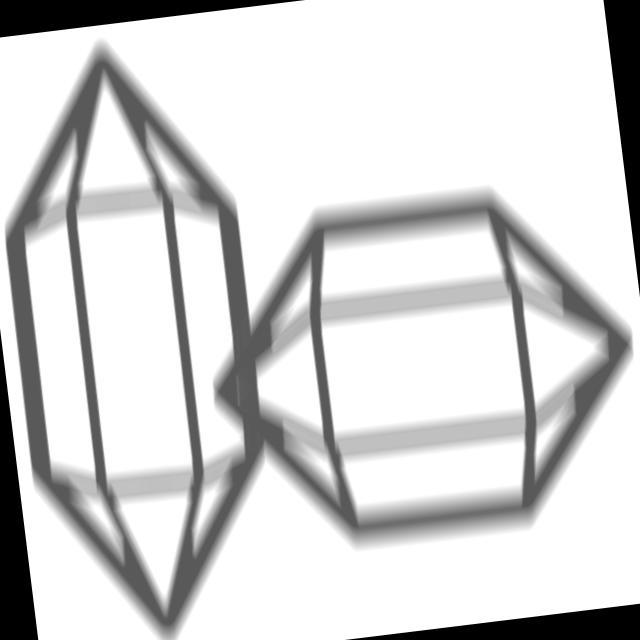crystal: (181, 155, 640, 582), (1, 13, 302, 640)
